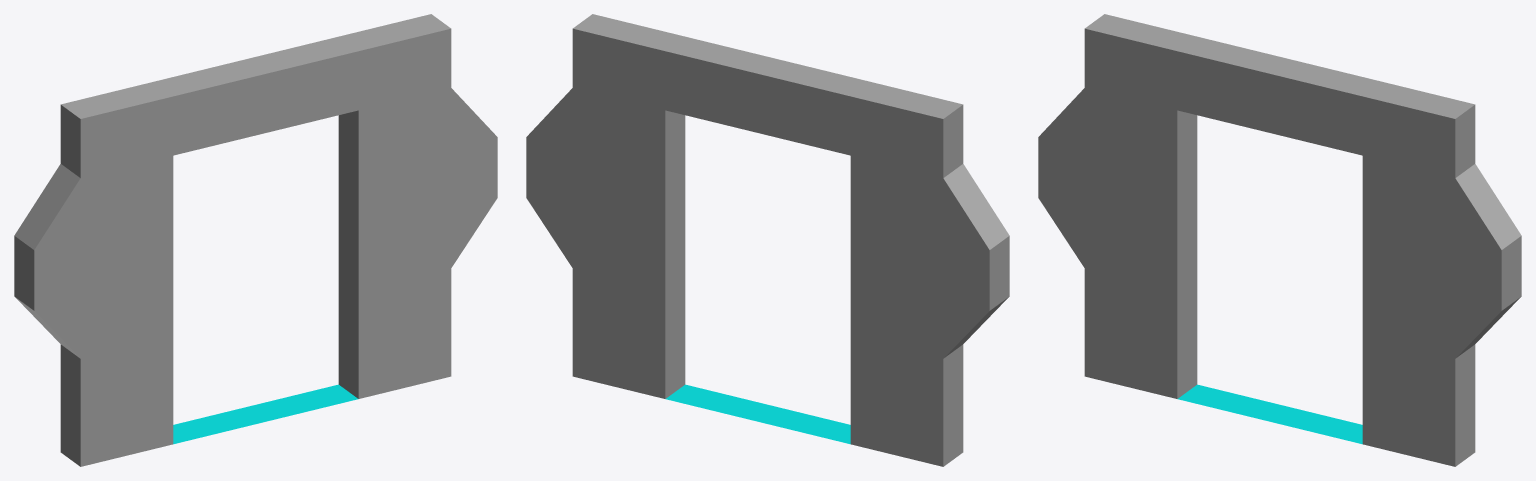
The model's file is sm_hallway_doorway.fbx.
The picture shows the model from 3 angles, left to right: view 1: azimuth 30°, elevation 25°; view 2: azimuth 150°, elevation 25°; view 3: azimuth 330°, elevation 25°; orthographic projection.
Parts seen in each view (by area): view 1: sm_hallway_doorway; view 2: sm_hallway_doorway; view 3: sm_hallway_doorway.
Boxes of the visible parts, x1,y1,x2,y2 form: sm_hallway_doorway: (14, 14, 497, 466); sm_hallway_doorway: (526, 14, 1009, 466); sm_hallway_doorway: (1038, 14, 1521, 466).
Bounding box in the file's own units: 10 × 7.17 × 0.7462.
